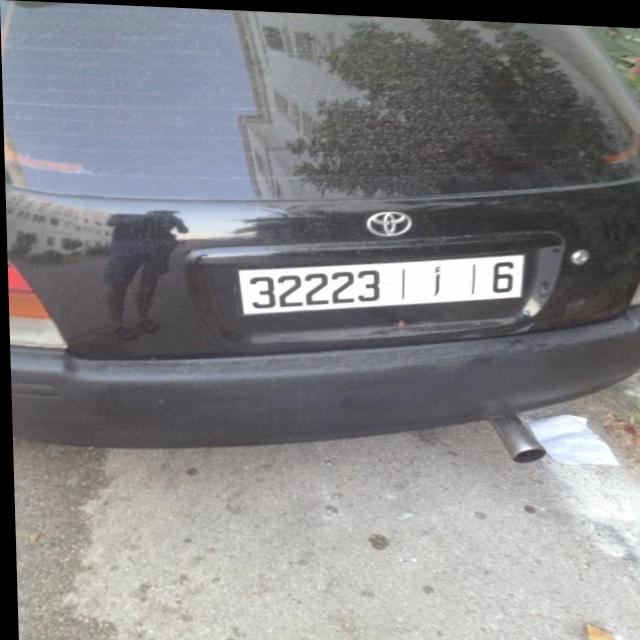License-Plate: (239, 250, 522, 312)
